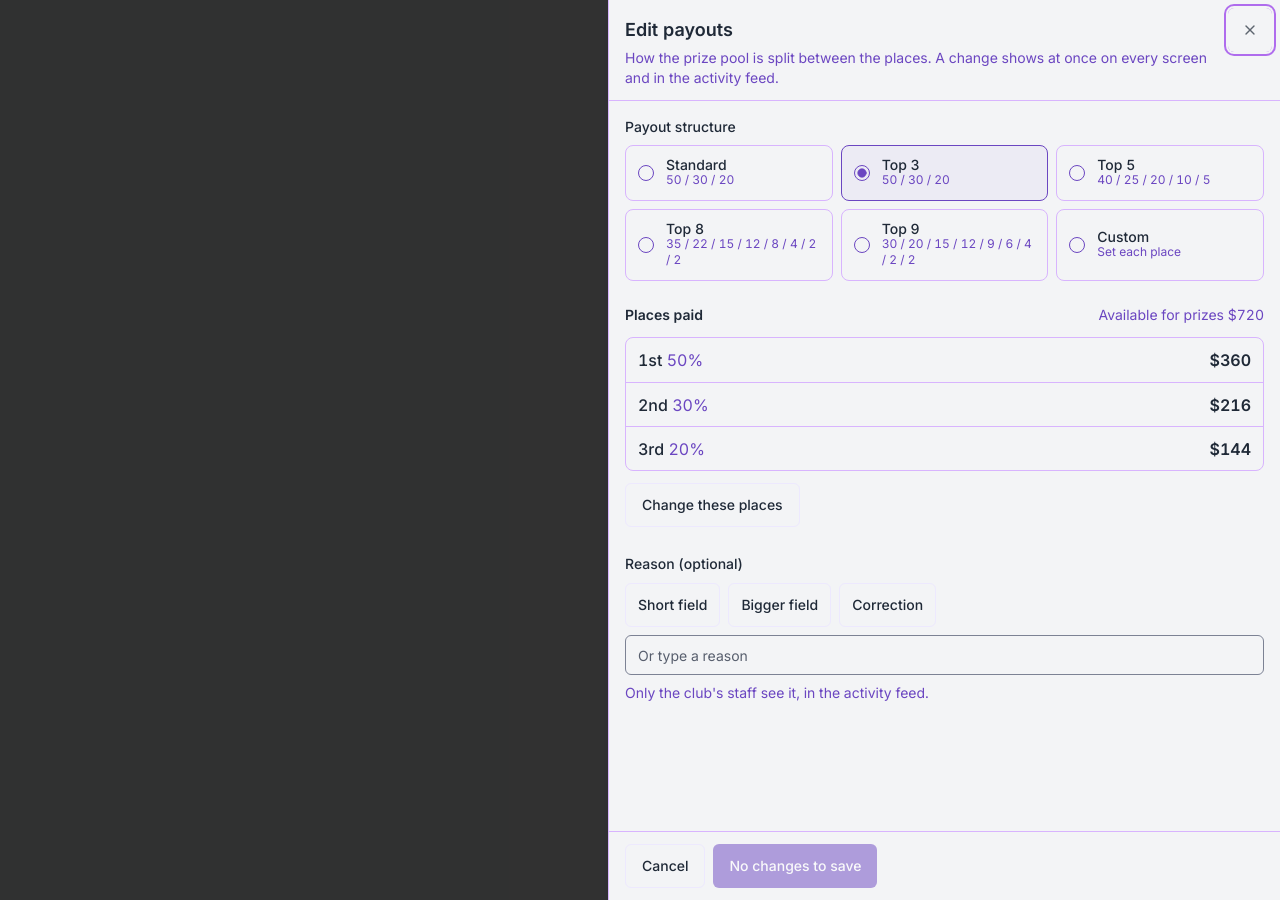
it: PayoutEditorSheet › starts Custom from the places and the choice stored before
Click the radio button named "Custom" next to "Custom" at (1077, 245), box [1069, 237, 1085, 253]
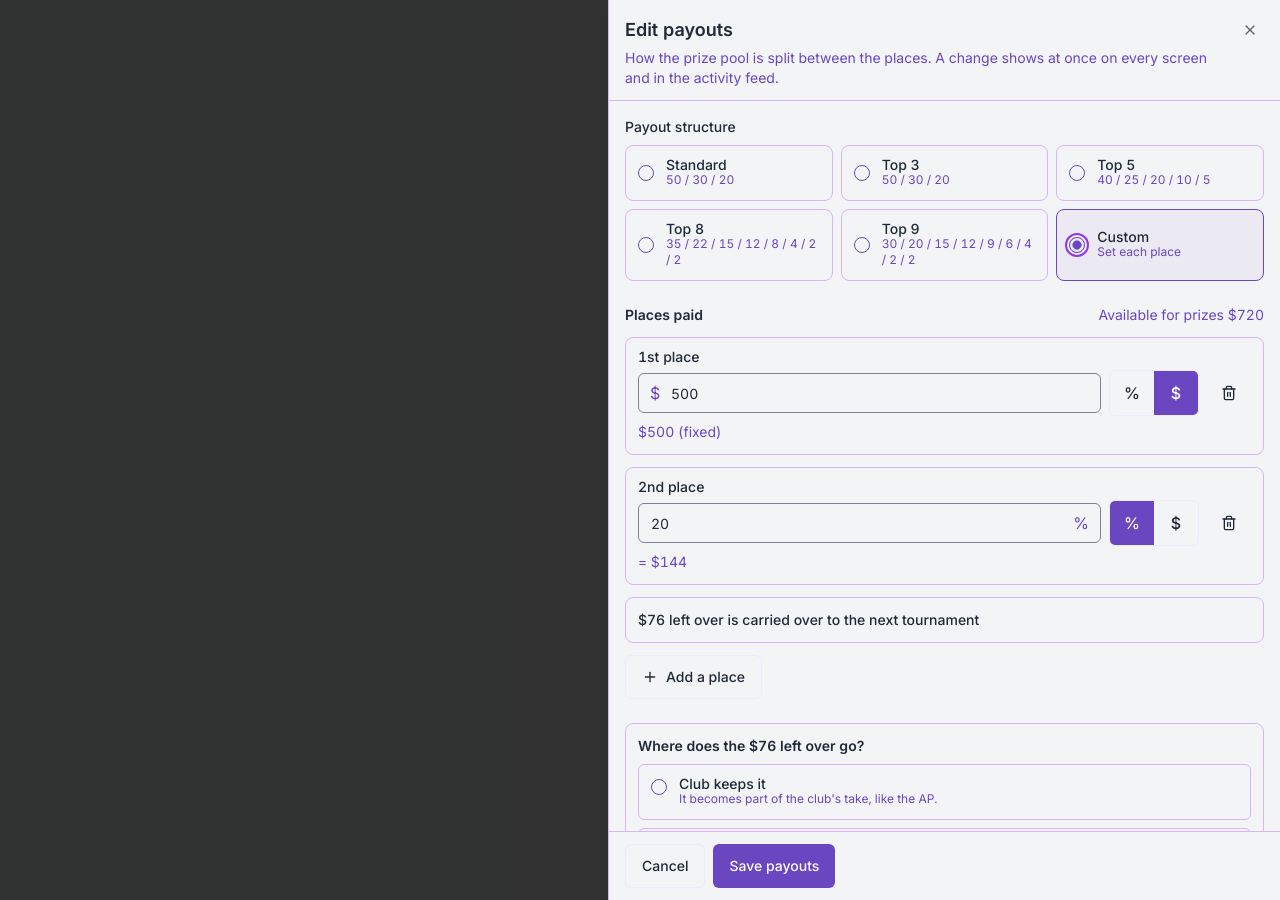
expect the field labelled "1st place" holds "500": met, box [638, 373, 1101, 413]
expect the field labelled "2nd place" holds "20": met, box [638, 503, 1101, 543]
expect the text with test id "payout-pays-1" reads "$500 (fixed)": met, box [638, 423, 722, 440]
